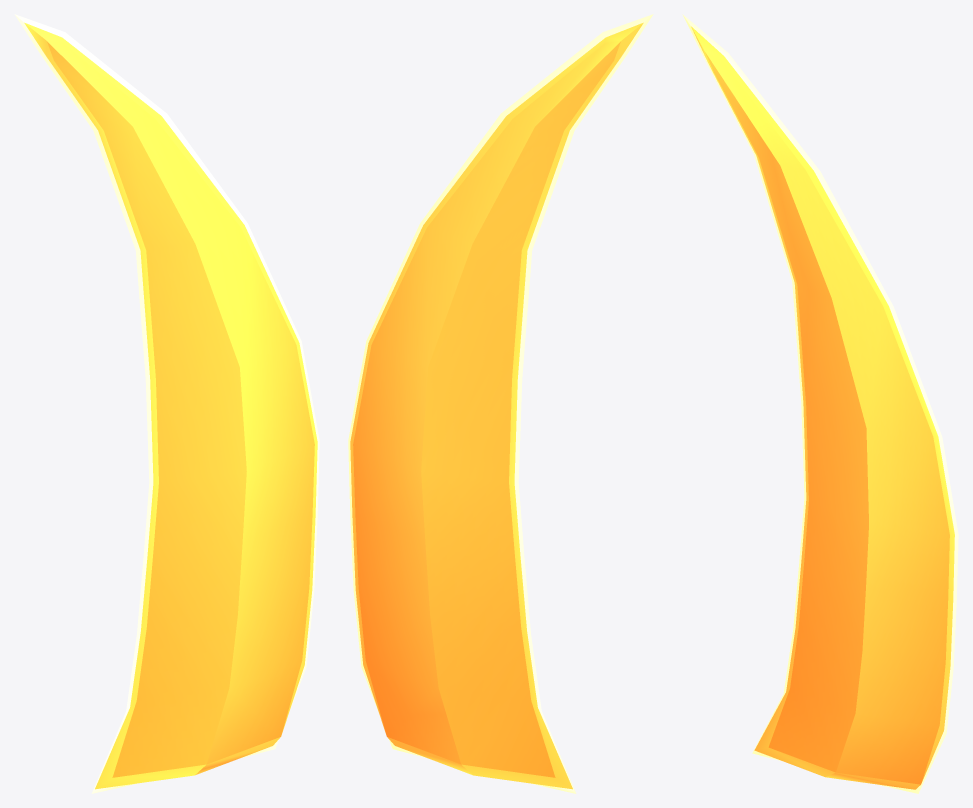
Rendered from gold_blade (12).glb.
3 renders of one model, left to right at view 1: azimuth 30°, elevation 25°; view 2: azimuth 150°, elevation 25°; view 3: azimuth 330°, elevation 25°, orthographic. The views are drawn at different scales.
Parts seen in each view (by area): view 1: gold_blade_steel.033; view 2: gold_blade_steel.033; view 3: gold_blade_steel.033.
Boxes of the visible parts, x1=… form: gold_blade_steel.033: x1=14, y1=14, x2=319, y2=793; gold_blade_steel.033: x1=348, y1=14, x2=653, y2=793; gold_blade_steel.033: x1=682, y1=14, x2=958, y2=793.
Bounding box in the file's own units: 4.91 × 12.29 × 0.7262.
Materials: 1 (1 with a texture image).
